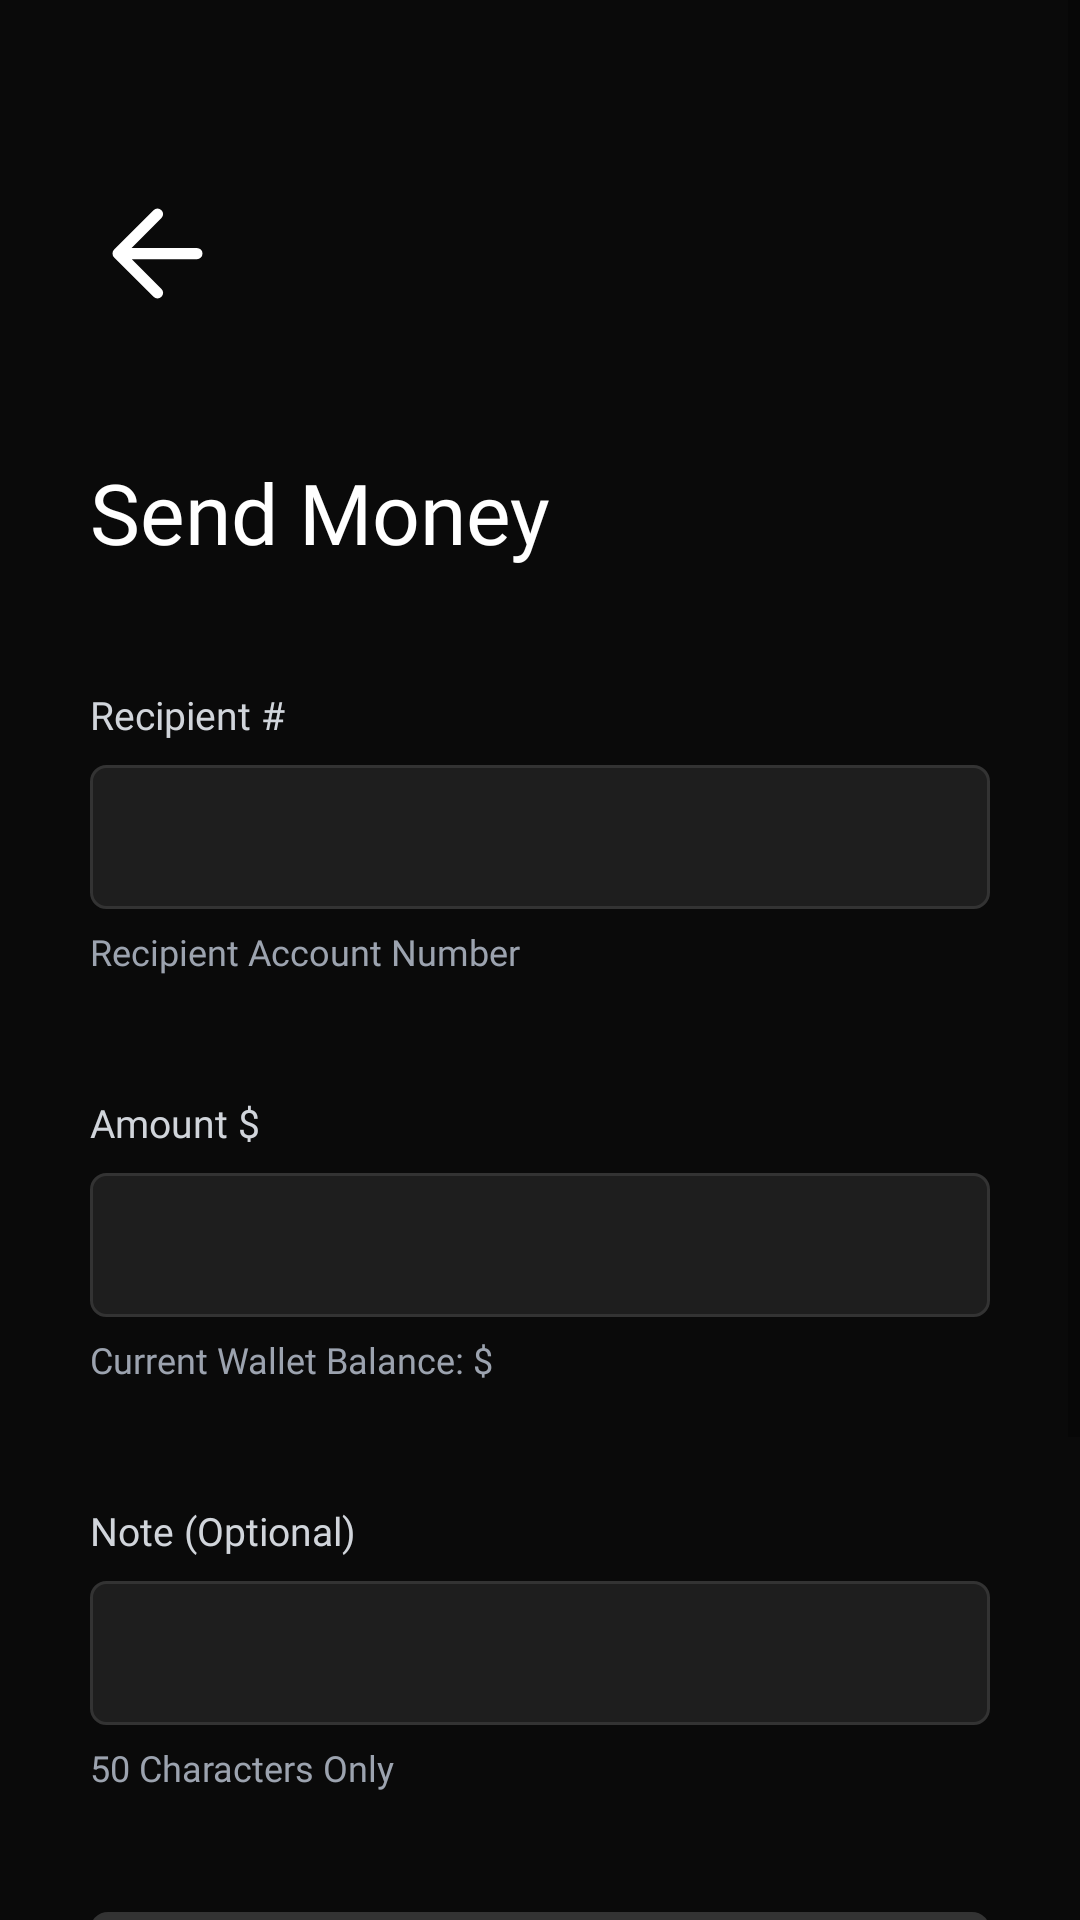

Icons on this 1080 x 1920 Android screen, each with the point to tap as (x,y):
back: (157,253)
